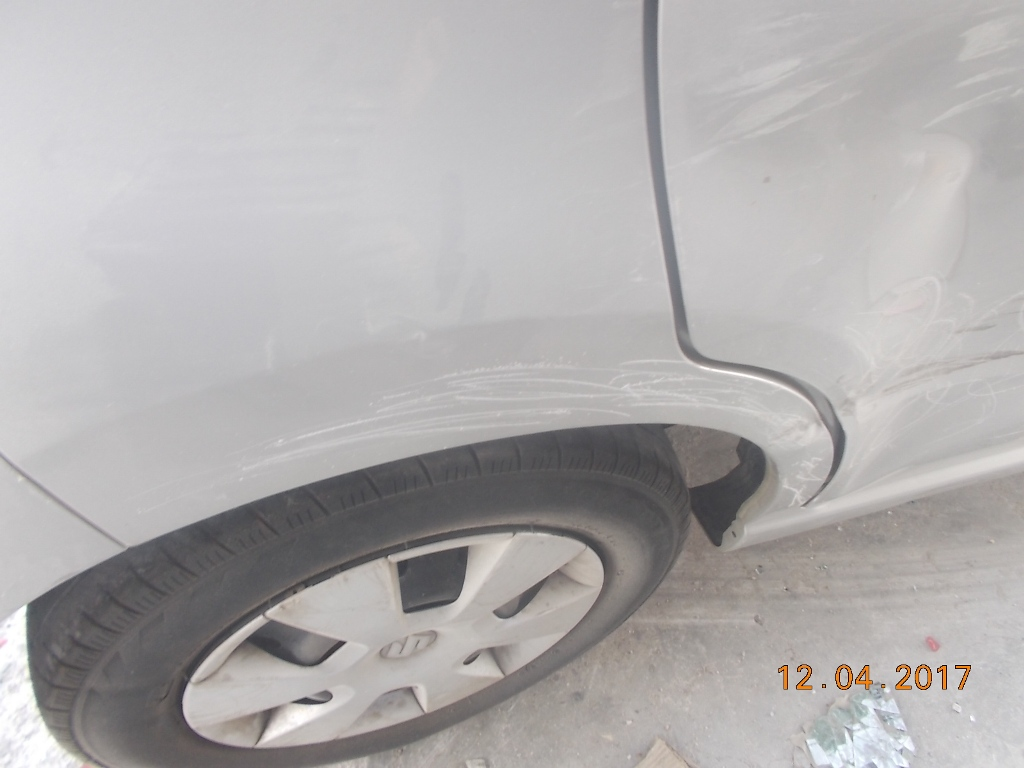Scratch_or_spot: (356, 358, 678, 421)
